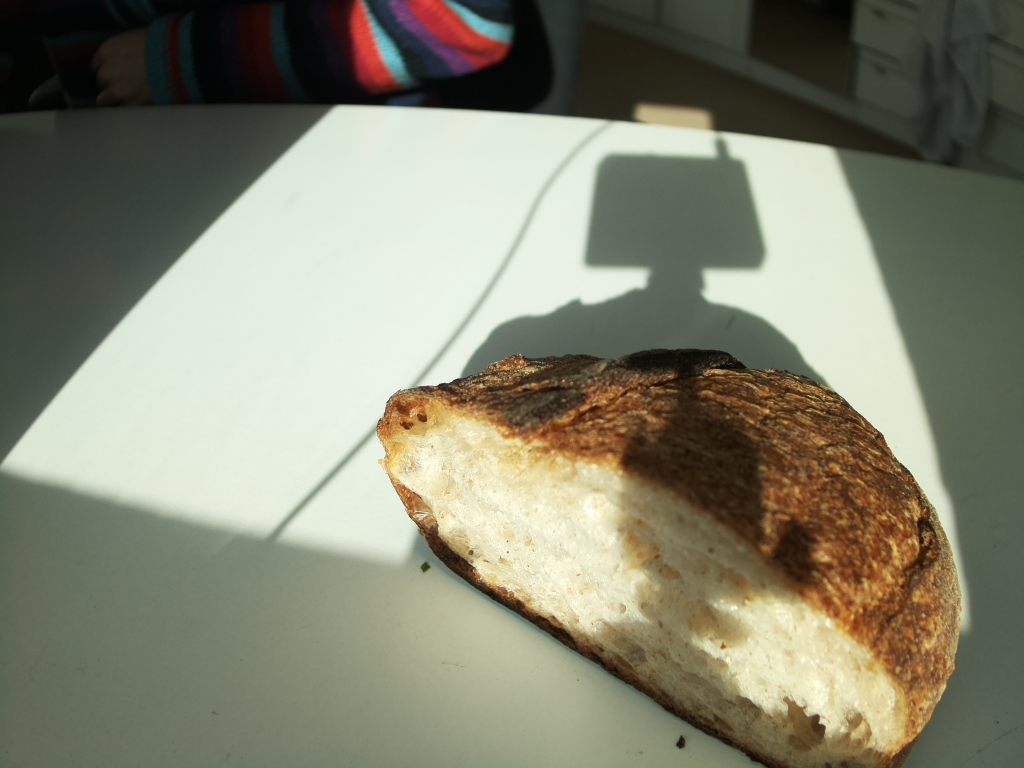bread: (375, 347, 963, 768)
